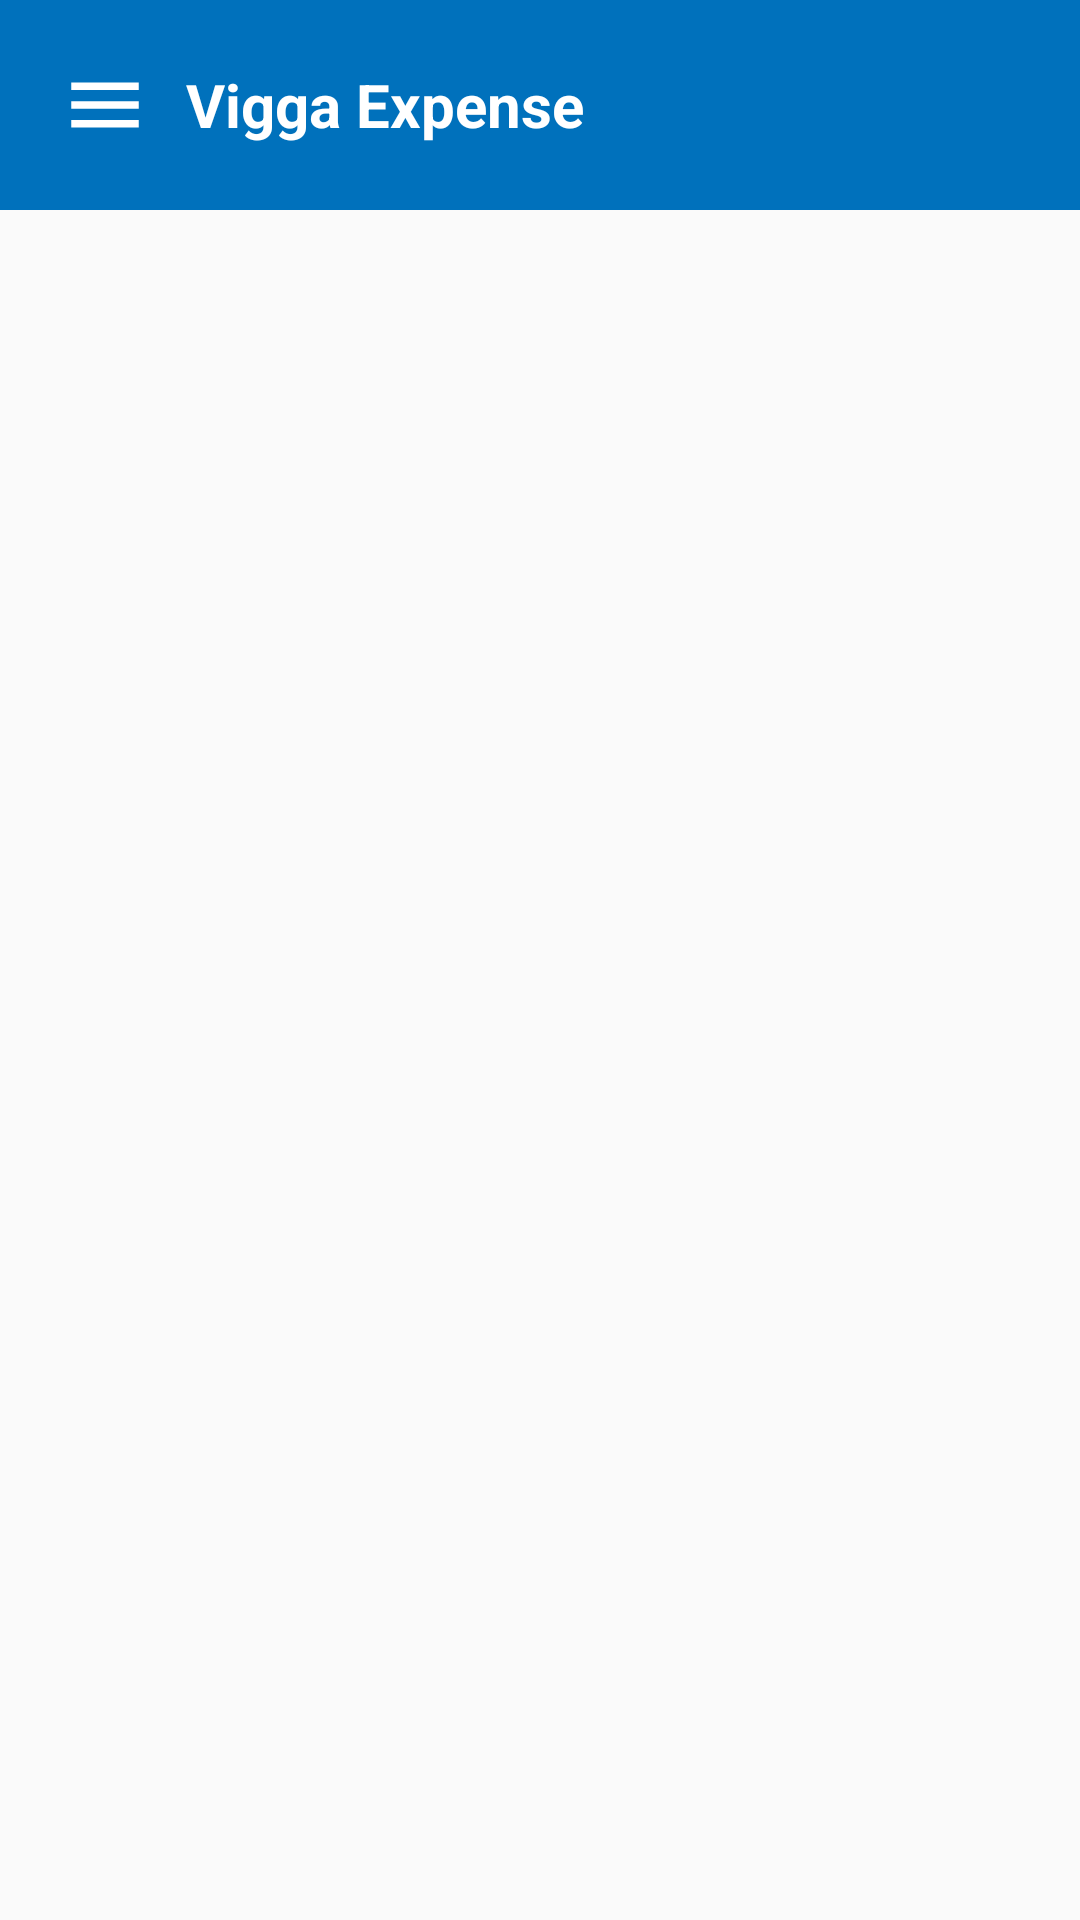

Screen size 1080*1920. Icon name, then its box in pixels as [x1=x1, y1=y1, x2=x2, y2=y2]:
menu: [x1=71, y1=82, x2=139, y2=128]
